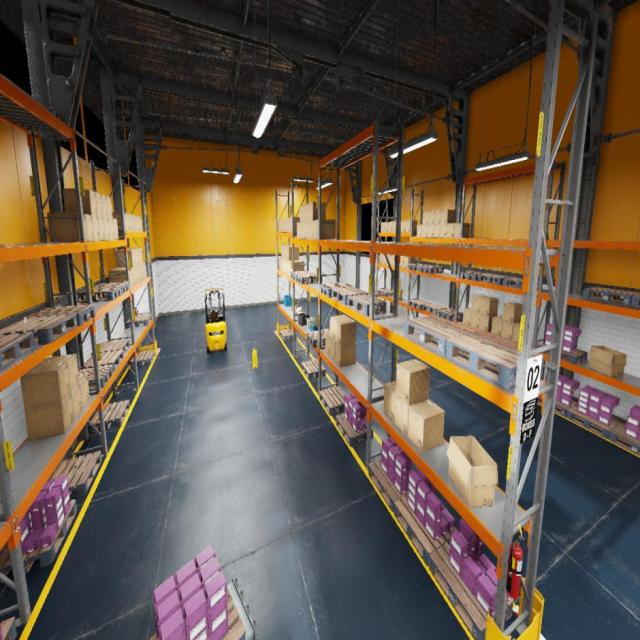box: (446, 436, 498, 507), (25, 392, 74, 442), (20, 362, 71, 408), (408, 399, 444, 452), (36, 354, 80, 391), (396, 359, 430, 405), (395, 394, 428, 436), (47, 212, 87, 242), (589, 346, 626, 377), (63, 188, 97, 216), (335, 319, 356, 346), (335, 341, 355, 367), (384, 380, 396, 422), (330, 314, 349, 340), (512, 322, 533, 343), (108, 269, 132, 287), (71, 382, 82, 420), (503, 302, 522, 323), (79, 374, 90, 409), (501, 320, 520, 340), (113, 268, 134, 286), (114, 250, 136, 267), (317, 219, 335, 239), (119, 248, 138, 266), (480, 297, 498, 316), (479, 314, 497, 332), (309, 202, 326, 221), (112, 212, 126, 232), (472, 296, 488, 313), (453, 222, 470, 238), (127, 248, 143, 264), (123, 249, 140, 264), (85, 214, 94, 241), (440, 209, 456, 223), (95, 192, 103, 217), (492, 316, 502, 336), (92, 216, 100, 240), (98, 217, 106, 240), (101, 194, 108, 218), (289, 260, 301, 274), (471, 311, 480, 329), (291, 260, 304, 272), (287, 247, 299, 260), (108, 218, 115, 240), (285, 247, 296, 260), (106, 196, 112, 219), (463, 308, 471, 325), (104, 218, 110, 240), (404, 256, 415, 268), (405, 221, 417, 232), (282, 245, 292, 258), (393, 287, 403, 300), (330, 337, 335, 361), (292, 217, 300, 232), (446, 223, 454, 238), (124, 213, 130, 232), (113, 218, 118, 240), (439, 223, 446, 238), (326, 332, 330, 356), (434, 224, 441, 237), (434, 210, 441, 223), (428, 210, 434, 224), (401, 221, 408, 232), (313, 220, 317, 239), (128, 214, 132, 232), (131, 214, 135, 232), (422, 212, 428, 224), (422, 225, 428, 237), (134, 215, 138, 232), (133, 266, 137, 283), (136, 265, 140, 282), (138, 264, 142, 281), (302, 205, 306, 222), (428, 224, 433, 237), (302, 222, 306, 238), (399, 256, 404, 268), (417, 225, 422, 237), (310, 221, 313, 238), (306, 204, 309, 221), (382, 254, 387, 264), (139, 216, 142, 232), (294, 306, 302, 312), (306, 222, 309, 238), (137, 216, 140, 231), (143, 262, 146, 277), (387, 254, 391, 265), (392, 221, 396, 232), (141, 264, 144, 278), (388, 222, 392, 232), (384, 222, 388, 232), (391, 254, 394, 266), (300, 205, 302, 222), (300, 222, 302, 238), (297, 222, 299, 238), (295, 310, 300, 316), (380, 254, 383, 264), (381, 222, 384, 232), (288, 218, 290, 232), (284, 218, 286, 232), (282, 218, 284, 232), (286, 259, 288, 273), (283, 258, 285, 272), (286, 219, 288, 232), (280, 219, 282, 232), (282, 246, 284, 259), (290, 306, 296, 310), (285, 260, 287, 272), (281, 258, 283, 270), (279, 257, 281, 269), (279, 220, 281, 231), (298, 312, 303, 316)
forklift: (205, 287, 227, 353)
pallets: (430, 540, 513, 639), (0, 499, 77, 583), (150, 576, 246, 639), (446, 332, 544, 388), (393, 494, 458, 566), (404, 316, 476, 356), (0, 314, 77, 346), (49, 451, 101, 497), (368, 458, 407, 512), (566, 405, 621, 439), (23, 304, 97, 326), (89, 399, 130, 434), (0, 331, 35, 370), (336, 413, 373, 447), (584, 287, 640, 306), (609, 424, 640, 456), (80, 349, 124, 371), (78, 364, 113, 391), (540, 344, 588, 363), (347, 294, 386, 316), (538, 397, 578, 418), (78, 286, 121, 303), (320, 387, 344, 415), (91, 338, 130, 355), (332, 287, 368, 305), (320, 282, 354, 297), (302, 359, 326, 379), (130, 350, 155, 368), (306, 329, 330, 347), (94, 282, 129, 294), (478, 273, 513, 285), (504, 277, 538, 289), (0, 616, 17, 639), (436, 308, 463, 321), (126, 315, 152, 328), (460, 271, 490, 281), (296, 273, 323, 284), (423, 304, 447, 314), (408, 300, 431, 310), (290, 271, 315, 280), (280, 328, 297, 341), (408, 263, 431, 271), (419, 266, 444, 273), (631, 294, 639, 308), (378, 289, 393, 296)
